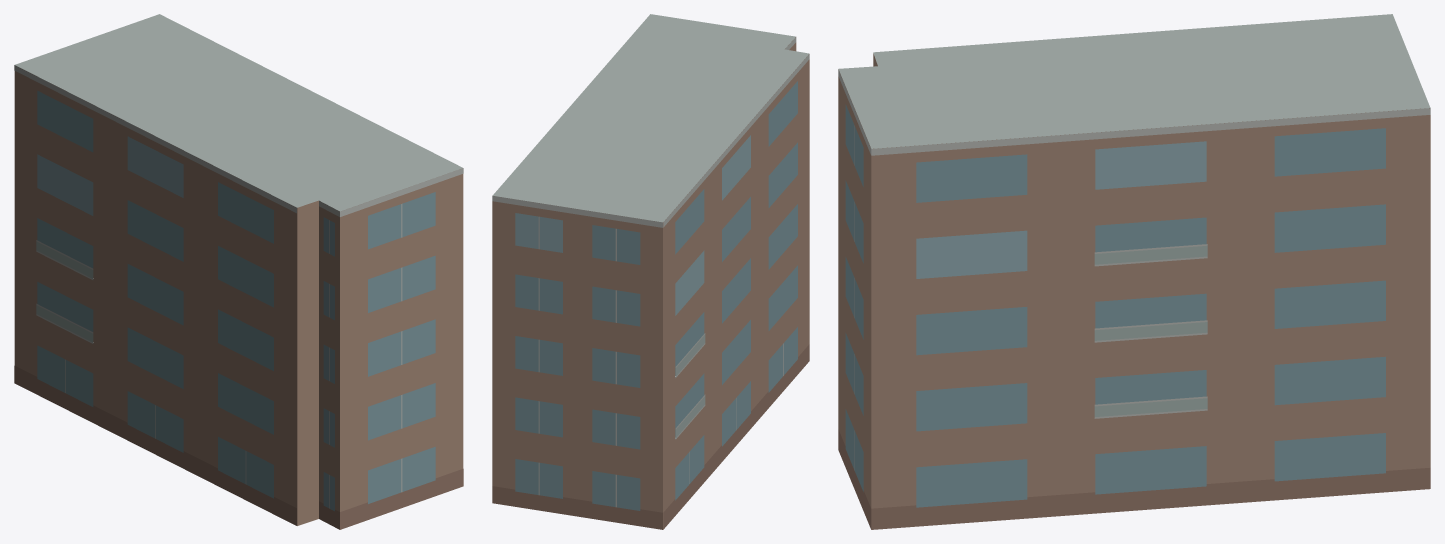
Rendered from survey-upis-32620013.glb.
The picture shows the model from 3 angles, left to right: view 1: azimuth 30°, elevation 25°; view 2: azimuth 150°, elevation 25°; view 3: azimuth 270°, elevation 25°; orthographic projection. The views are drawn at different scales.
Parts seen in each view (by area): view 1: survey-upis-32620013.tmp; view 2: survey-upis-32620013.tmp; view 3: survey-upis-32620013.tmp.
Part boxes in pixels (x1,y1,x2,y2): survey-upis-32620013.tmp: [14, 14, 463, 529]; survey-upis-32620013.tmp: [492, 14, 809, 529]; survey-upis-32620013.tmp: [838, 14, 1430, 529].
Size of the model in its own units: 10.34 by 13.6 by 19.17.
